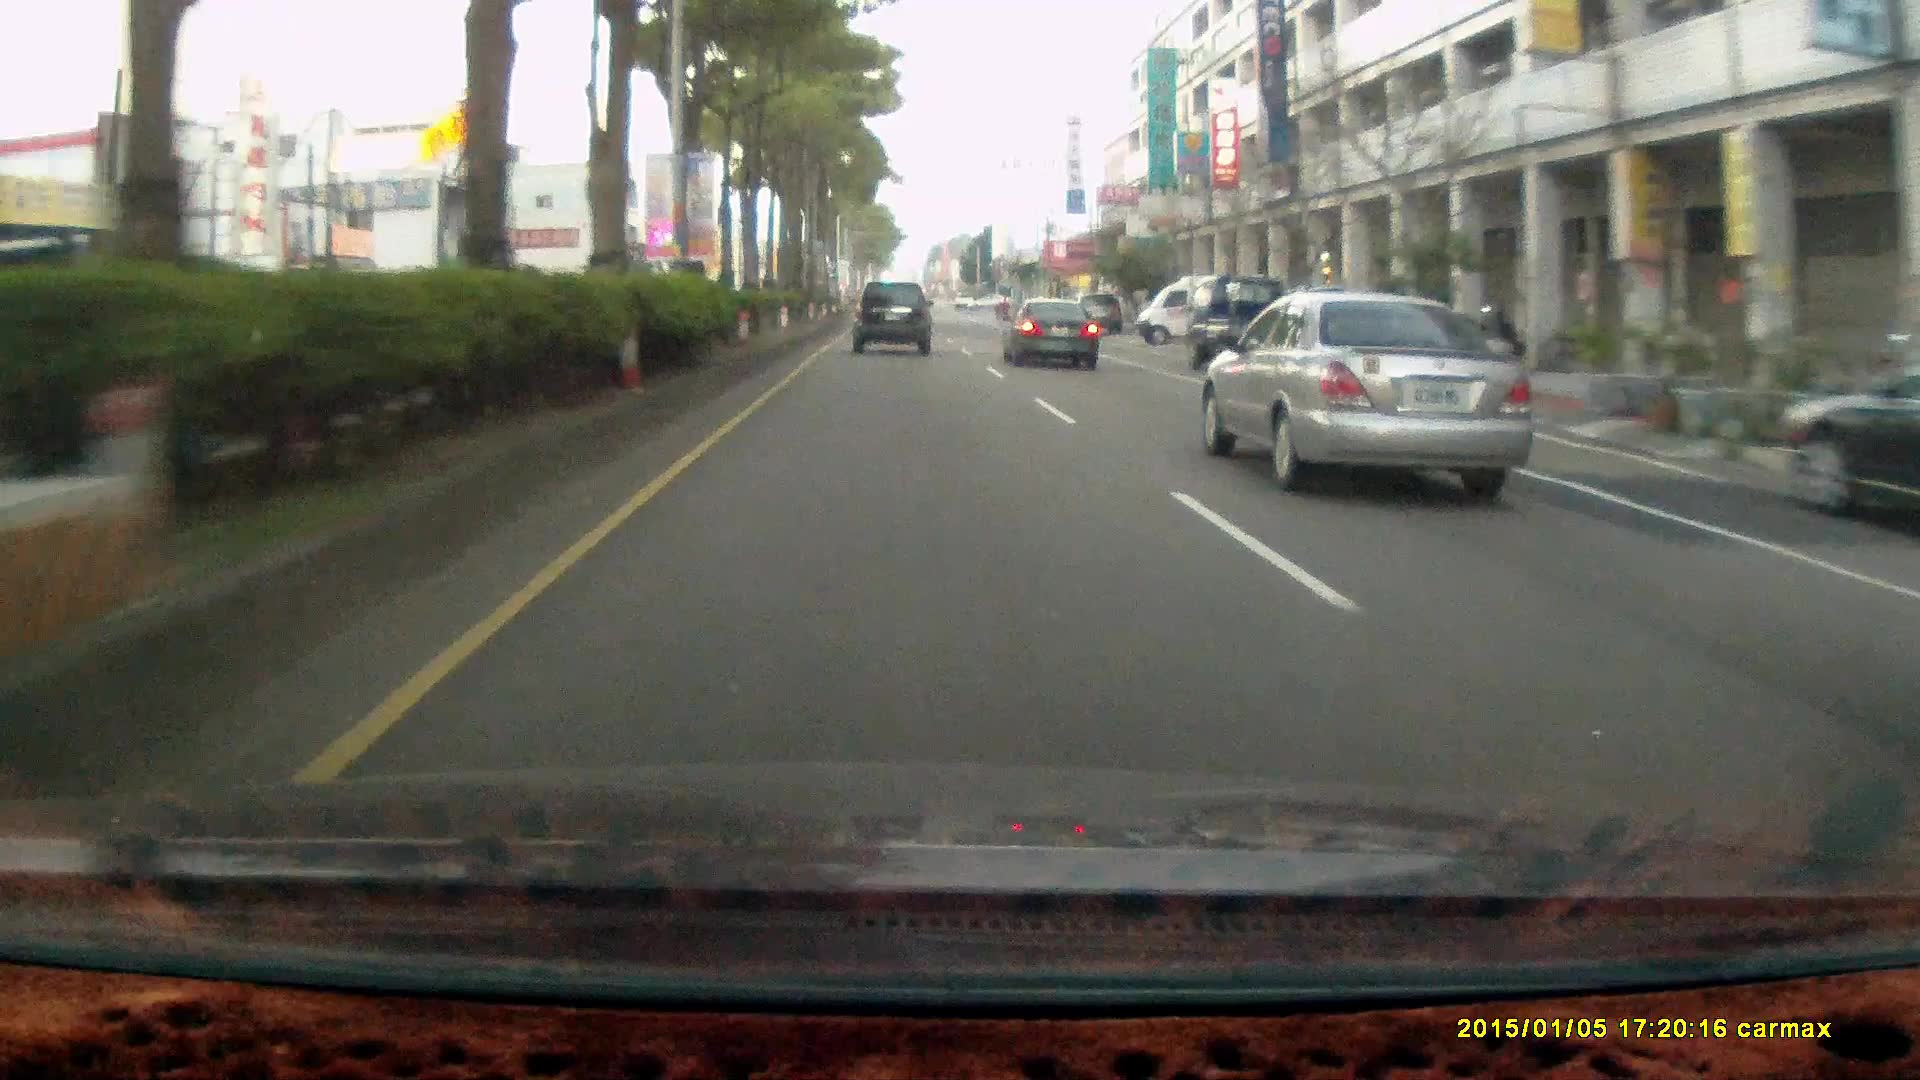vehicle: (1197, 287, 1528, 487), (1778, 367, 1920, 541), (1337, 306, 1514, 410), (1207, 276, 1328, 389), (1185, 274, 1304, 372), (1137, 272, 1273, 351), (1135, 274, 1270, 345), (1000, 297, 1102, 373), (1001, 291, 1097, 364), (851, 281, 936, 359), (849, 280, 931, 352), (1069, 291, 1124, 335)
